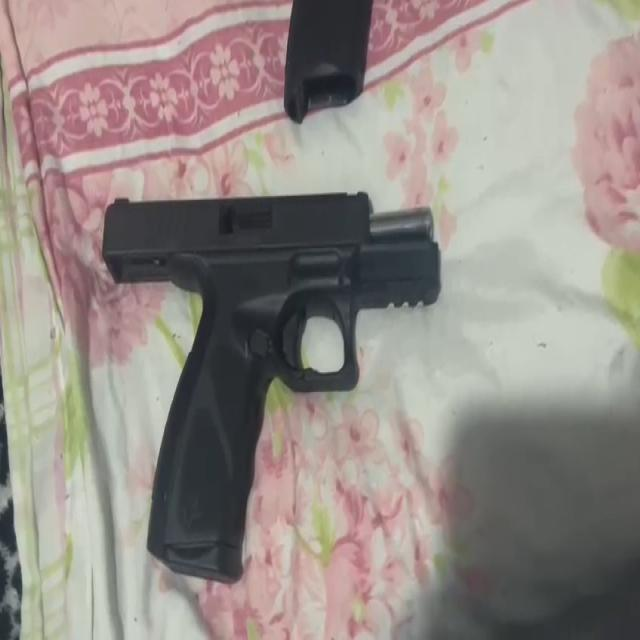gun: (102, 188, 444, 586)
